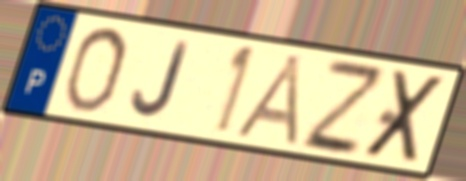1: (213, 43, 259, 140)
A: (230, 52, 305, 149)
J: (130, 39, 193, 121)
O: (61, 25, 131, 115)
X: (359, 67, 452, 165)
Z: (298, 55, 386, 159)
